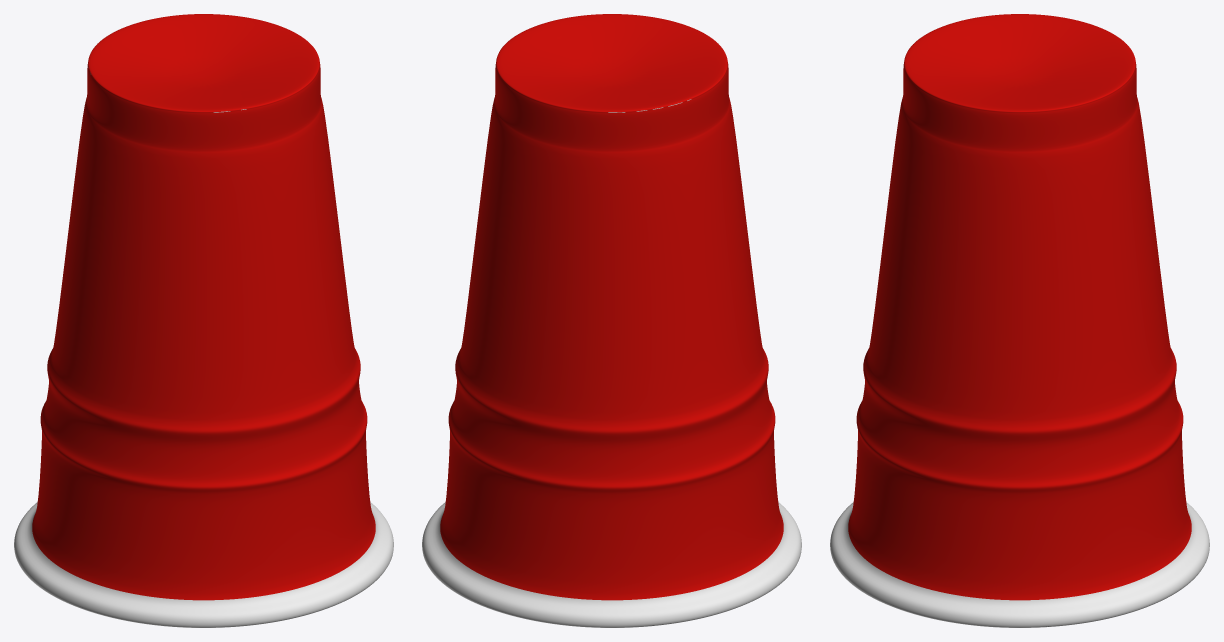
The model's file is cup.fbx.
3 renders of one model, left to right at view 1: azimuth 30°, elevation 25°; view 2: azimuth 150°, elevation 25°; view 3: azimuth 270°, elevation 25°, orthographic.
Visible parts, largest first — view 1: Cylinder; view 2: Cylinder; view 3: Cylinder.
Boxes of the visible parts, bbox=[...] form: Cylinder: bbox=[14, 14, 393, 627]; Cylinder: bbox=[422, 14, 801, 627]; Cylinder: bbox=[830, 14, 1209, 627].
Size of the model in its own units: 378 by 534 by 378.
